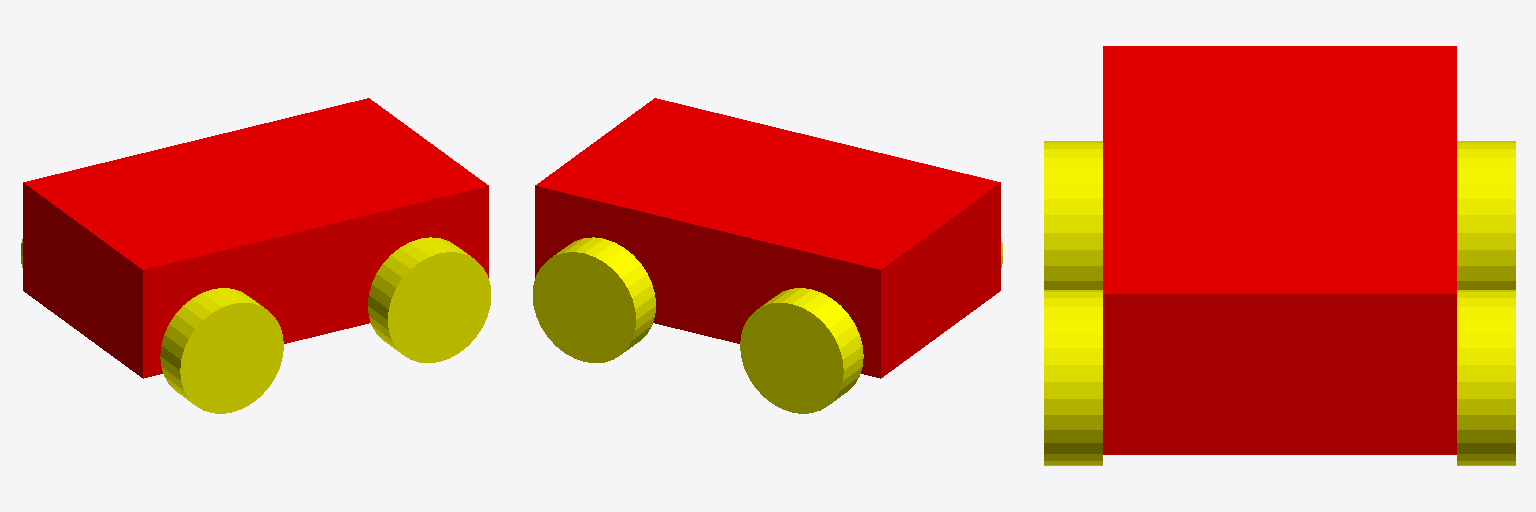
The robot description file, URDF, robot "ros_dd":
<?xml version="1.0" ?>
<robot name="ros_dd">
    <!-- robot body link  -->
    <link name="body_link">
        <visual>
            <origin rpy="0 0 0" xyz="0 0 0"/>
            <geometry>
                <box size="1 0.6 0.3"/>
            </geometry>
            <material name="red">
                <color rgba="1 0 0 1"/>
            </material>
        </visual>
    </link>
    <!-- back right wheel of robot  -->
    <joint name="wheel1_joint" type="continuous">
        <parent link="body_link"/>
        <child link="wheel1_link" />
        <origin xyz="-0.3 -0.35 -0.1" rpy="0 0 0"/>
        <axis xyz="0 1 0" />
    </joint>
    <link name="wheel1_link">
        <visual>
            <origin rpy="1.570795 0 0" xyz="0 0 0"/>
            <geometry>
                <cylinder length="0.1" radius="0.15"/>
            </geometry>
            <material name="yellow">
                <color rgba="1 1 0 1"/>
            </material>
        </visual>
    </link>
    <!-- back left wheel of robot  -->
    <joint name="wheel2_joint" type="continuous">
        <parent link="body_link"/>
        <child link="wheel2_link" />
        <origin xyz="-0.3 0.35 -0.1" rpy="0 0 0"/>
        <axis xyz="0 1 0" />
    </joint>
    <link name="wheel2_link">
        <visual>
            <origin rpy="1.570795 0 0" xyz="0 0 0"/>
            <geometry>
                <cylinder length="0.1" radius="0.15"/>
            </geometry>
            <material name="yellow">
                <color rgba="1 1 0 1"/>
            </material>
        </visual>
    </link>
    <!-- front right wheel of robot -->
     <joint name="wheel3_joint" type="continuous">
        <parent link="body_link"/>
        <child link="wheel3_link" />
        <origin xyz="0.3 0.35 -0.1" rpy="0 0 0"/>
        <axis xyz="0 1 0" />
    </joint>
    <link name="wheel3_link">
        <visual>
            <origin rpy="1.570795 0 0" xyz="0 0 0"/>
            <geometry>
                <cylinder length="0.1" radius="0.15"/>
            </geometry>
            <material name="yellow">
                <color rgba="1 1 0 1"/>
            </material>
        </visual>
    </link>
    <!-- front left wheel of robot -->
     <joint name="wheel4_joint" type="continuous">
        <parent link="body_link"/>
        <child link="wheel4_link" />
        <origin xyz="0.3 -0.35 -0.1" rpy="0 0 0"/>
        <axis xyz="0 1 0" />
    </joint>
    <link name="wheel4_link">
        <visual>
            <origin rpy="1.570795 0 0" xyz="0 0 0"/>
            <geometry>
                <cylinder length="0.1" radius="0.15"/>
            </geometry>
            <material name="yellow">
                <color rgba="1 1 0 1"/>
            </material>
        </visual>
    </link>
</robot>

--- Facts derived from the render (not from the file) ---
Views: 3 orthographic renders of the robot side by side, from view 1: azimuth 30°, elevation 25°; view 2: azimuth 150°, elevation 25°; view 3: azimuth 270°, elevation 25°.
Model ros_dd with 5 links and 4 joints (4 continuous), rooted at body_link, posed every joint at zero.
Visible links, largest first — view 1: body_link, wheel1_link, wheel4_link; view 2: body_link, wheel2_link, wheel3_link; view 3: body_link, wheel3_link, wheel4_link, wheel1_link, wheel2_link.
Link boxes in pixels (x1,y1,x2,y2): body_link: [23, 98, 488, 378]; wheel1_link: [160, 288, 283, 413]; wheel4_link: [368, 237, 490, 362]; body_link: [535, 98, 1000, 378]; wheel2_link: [740, 288, 863, 413]; wheel3_link: [533, 237, 655, 362]; body_link: [1103, 46, 1456, 454]; wheel3_link: [1457, 290, 1515, 465]; wheel4_link: [1044, 290, 1102, 465]; wheel1_link: [1044, 141, 1102, 289]; wheel2_link: [1457, 141, 1515, 289].
Size in the robot's own frame: 1 by 0.8 by 0.4 metres.
Geometry: primitives only (box / cylinder / sphere), no mesh files.